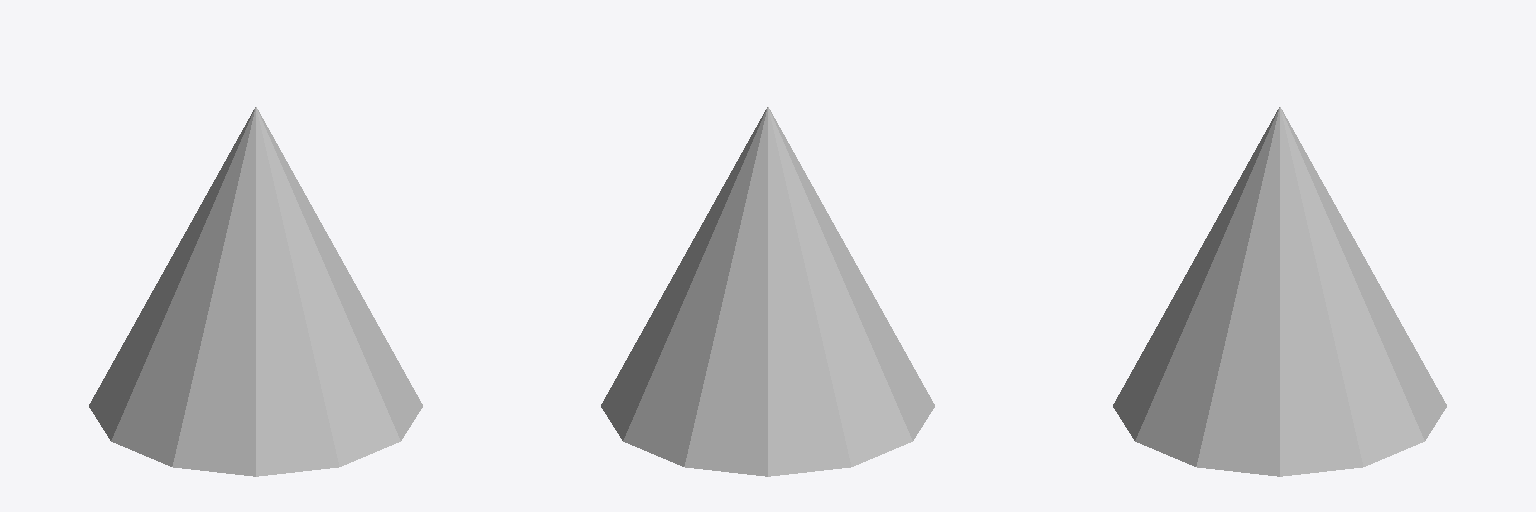
The model's file is cone_maya.obj.
3 renders of one model, left to right at view 1: azimuth 30°, elevation 25°; view 2: azimuth 150°, elevation 25°; view 3: azimuth 270°, elevation 25°, orthographic.
Size of the model in its own units: 3.97 by 3.93 by 3.97.